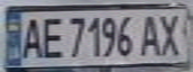1: (84, 14, 103, 57)
6: (115, 12, 139, 57)
7: (63, 14, 87, 58)
9: (100, 14, 121, 58)
A: (136, 11, 163, 57), (18, 15, 45, 61)
E: (39, 14, 66, 61)
X: (154, 10, 187, 57)
